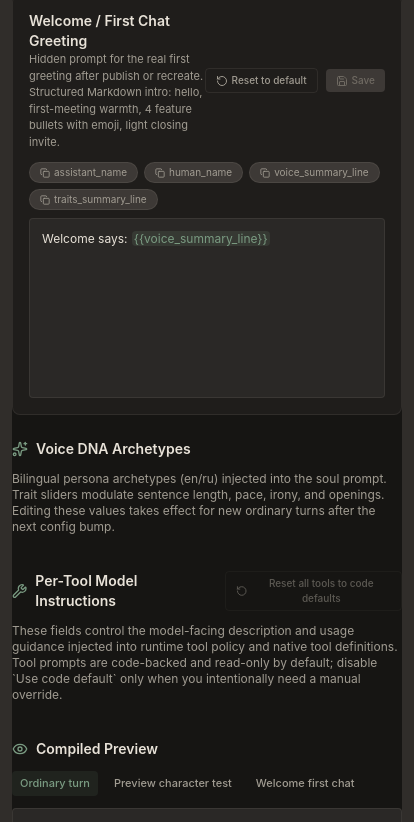
it: AdminPresetsPage tool prompt defaults › renders voice summary sample variables inside onboarding compiled preview
(page scrolled)
Expected: the heading "Compiled Preview" is shown, [36,739,158,759]
Click the button "Preview character test": (173, 783) [106,771,240,796]
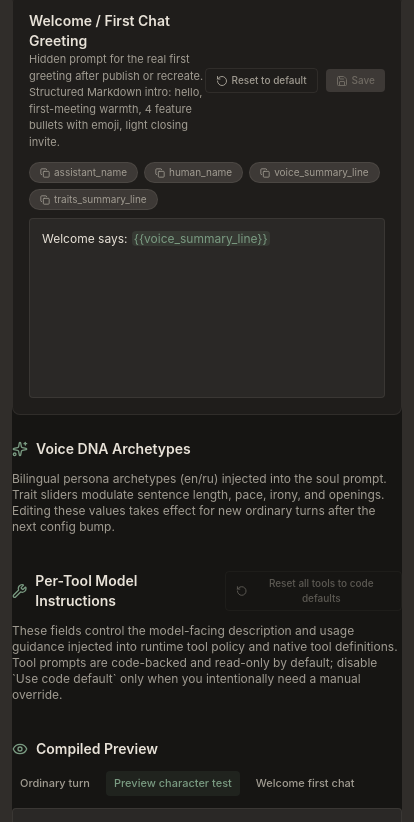
Click the button "Welcome first chat": (305, 783) [248,771,362,796]
(page scrolled)
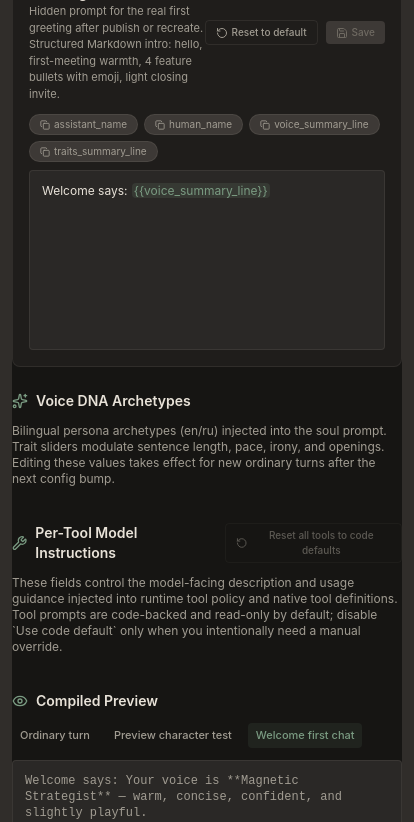
Expected: the text "Welcome says: Your voice is **Magnetic Strategist** — warm, concise, confident, and slightly playful." is shown, [25,774,349,820]
